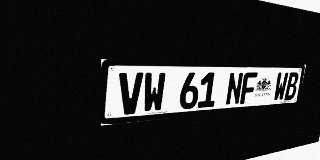1: (198, 72, 218, 108)
6: (179, 72, 200, 110)
B: (284, 72, 299, 100)
F: (240, 72, 258, 104)
N: (225, 72, 244, 106)
V: (118, 72, 143, 115)
W: (142, 72, 166, 113), (273, 72, 289, 101)
